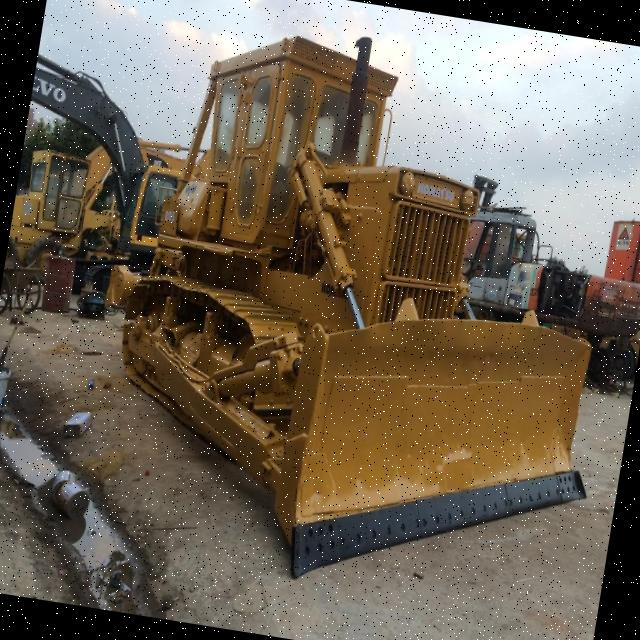Bulldozer: (85, 0, 640, 628)
